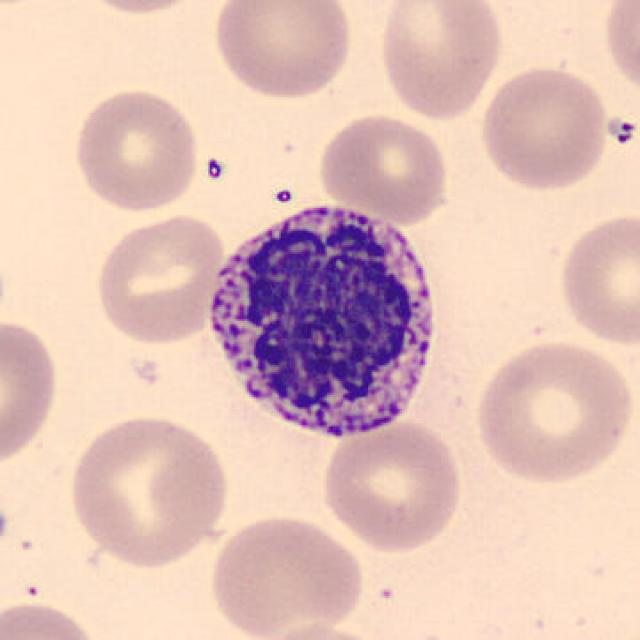Basophil: (196, 191, 452, 453)
Platelets: (201, 154, 227, 185), (268, 184, 297, 206), (0, 502, 11, 554)
RBC: (62, 409, 233, 570), (469, 335, 636, 487), (316, 416, 468, 554), (205, 510, 366, 638), (90, 210, 228, 347), (474, 62, 612, 192), (70, 83, 204, 213), (375, 0, 507, 122), (315, 109, 453, 224), (208, 0, 355, 102), (555, 208, 638, 349), (0, 314, 62, 471), (0, 597, 106, 640), (599, 0, 640, 102), (250, 619, 394, 640), (69, 0, 210, 16)
